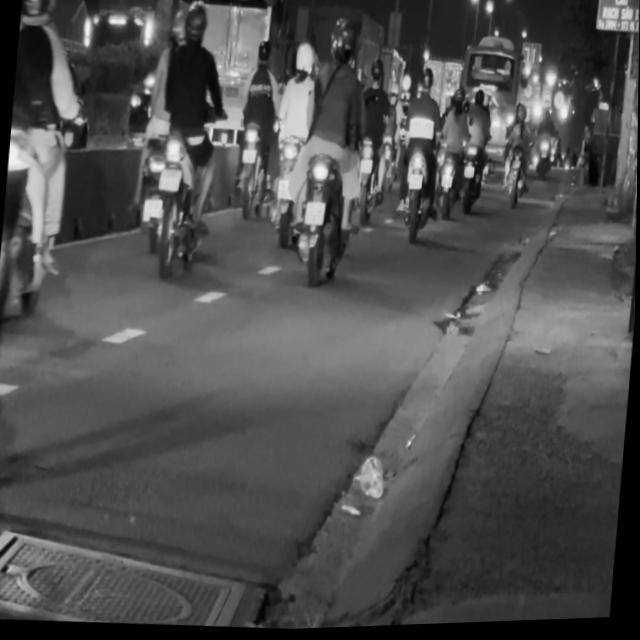helmet: (182, 0, 208, 46), (20, 0, 58, 29), (335, 26, 360, 70)
licenseplate: (0, 0, 106, 321), (131, 0, 231, 284), (292, 18, 383, 297)
